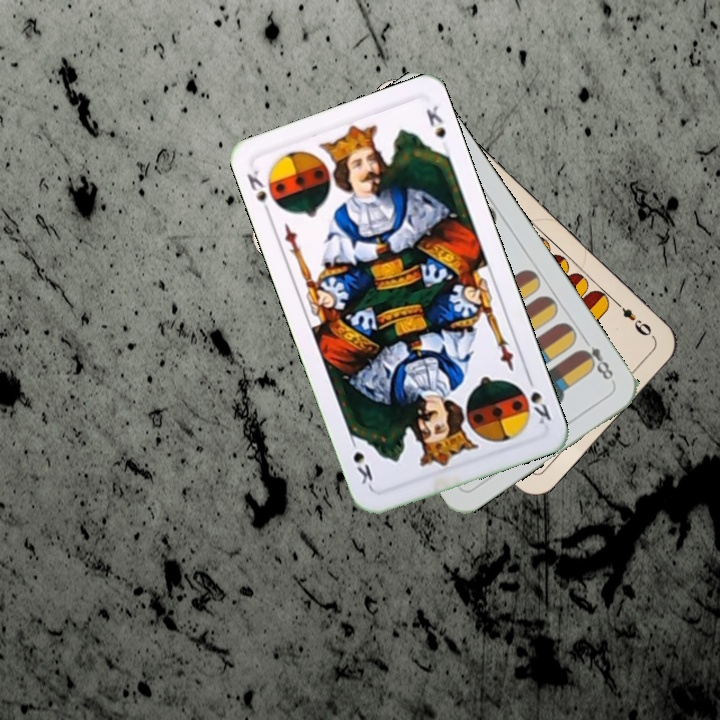E8: (575, 333, 616, 383)
E9: (610, 296, 657, 341)
SK: (523, 371, 554, 427), (242, 166, 274, 220)
